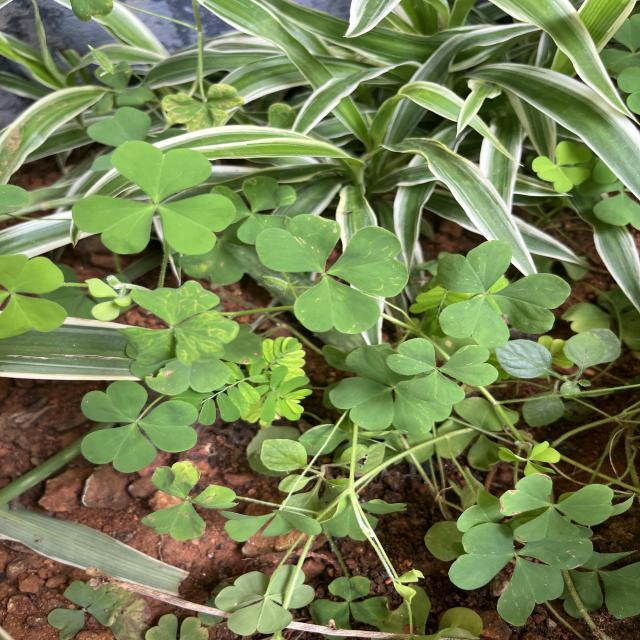Oxalis corniculata: (68, 139, 238, 258), (254, 212, 411, 336), (435, 238, 572, 349), (80, 378, 200, 474), (114, 279, 241, 368), (140, 459, 240, 542), (384, 336, 500, 406), (500, 472, 614, 542), (0, 252, 69, 340), (531, 140, 594, 194)
